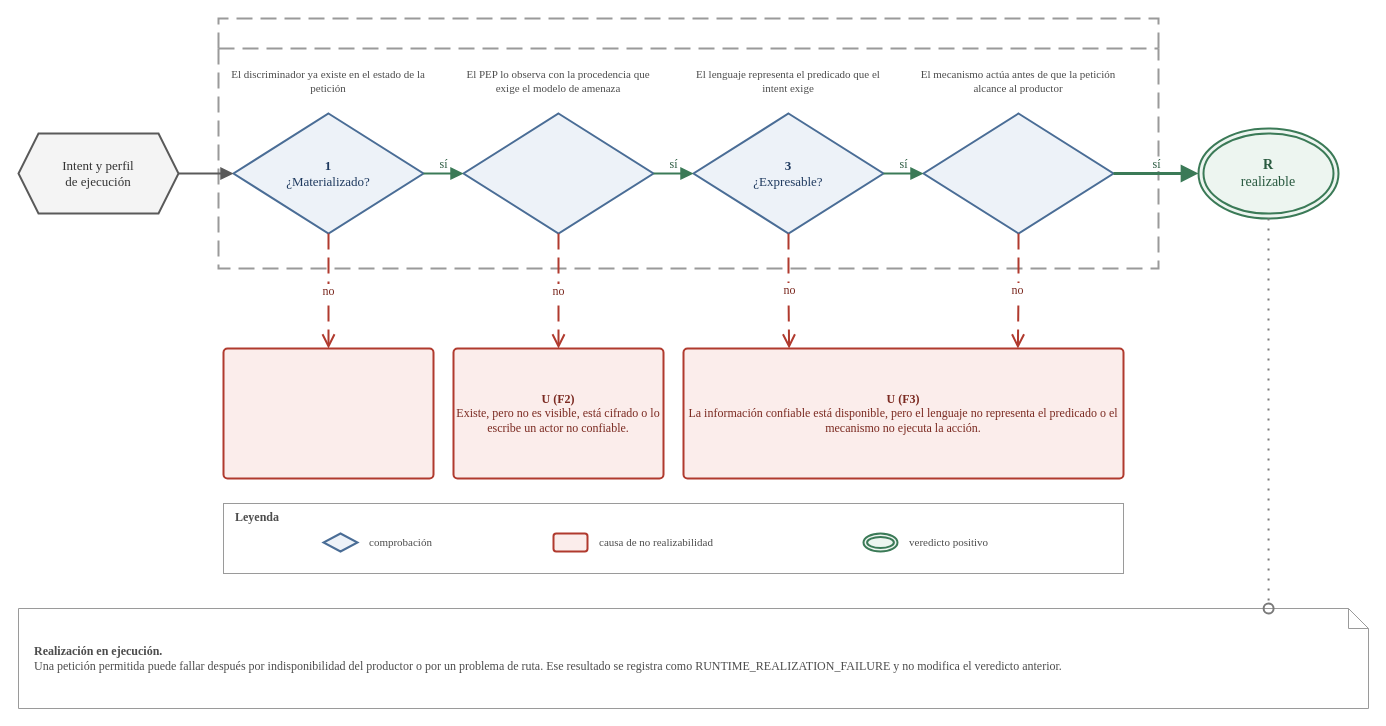
This 1386x726 diagram has some shape labels left out. Each missing label, with the box of its shape:
2 ¿Observable y confiable?: (462, 112, 654, 234)
4 ¿Accionable?: (922, 112, 1114, 234)
Cadena de comprobaciones: (217, 17, 1159, 269)
U (F1) El discriminador todavía no existe cuando el PEP decide.: (222, 347, 434, 479)
